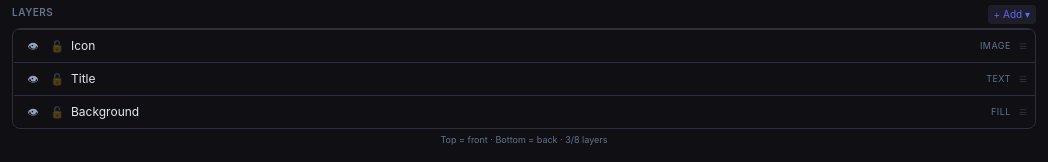
LayerList › add layer menu › should show layer type options when Add is clicked
The image size is (1048, 162).
Step 1. Click the button "+ Add ▾" → (1012, 14), box left=988, top=5, right=1036, bottom=24
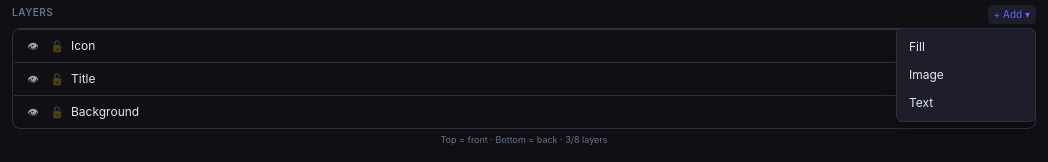
Expected: the button "Fill" is shown, left=897, top=33, right=1035, bottom=61
Expected: the button "Image" is shown, left=897, top=61, right=1035, bottom=89
Expected: the button "Text" is shown, left=897, top=89, right=1035, bottom=117
